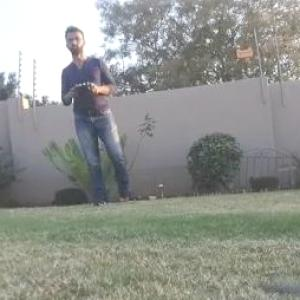follow: (58, 20, 144, 210)
